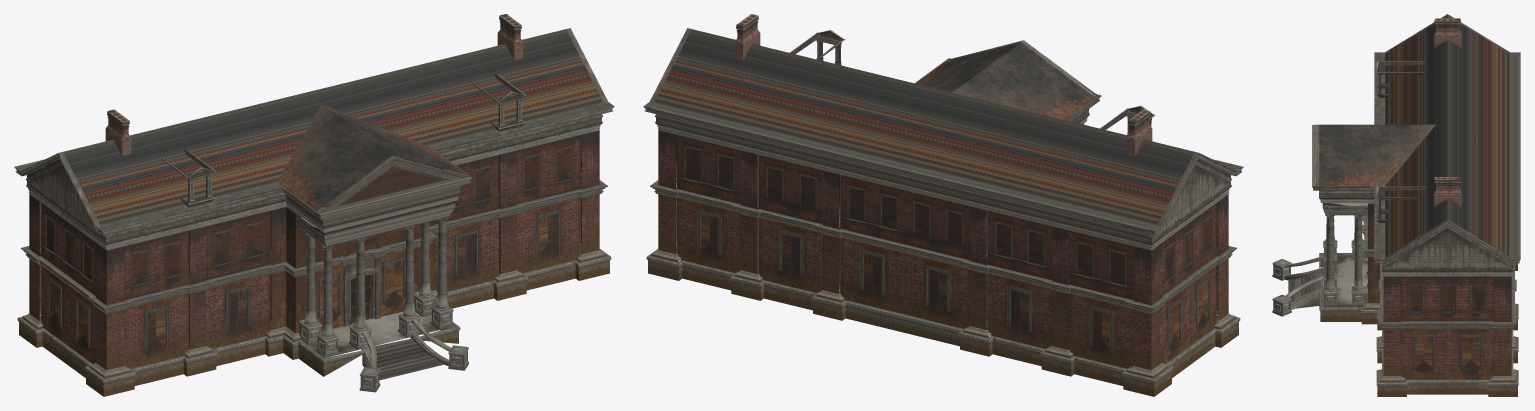
File: flood-mansion.glb
3 views of the same model, side by side, from view 1: azimuth 30°, elevation 25°; view 2: azimuth 150°, elevation 25°; view 3: azimuth 270°, elevation 25° (orthographic). The views are drawn at different scales.
Parts seen in each view (by area): view 1: flood-mansion; view 2: flood-mansion; view 3: flood-mansion.
Part boxes in pixels (x1,y1,x2,y2): flood-mansion: (14, 14, 614, 396); flood-mansion: (643, 14, 1243, 396); flood-mansion: (1272, 14, 1520, 396).
Bounding box in the file's own units: 15.68 × 6.9 × 7.95.
3 materials, 3 textured.
